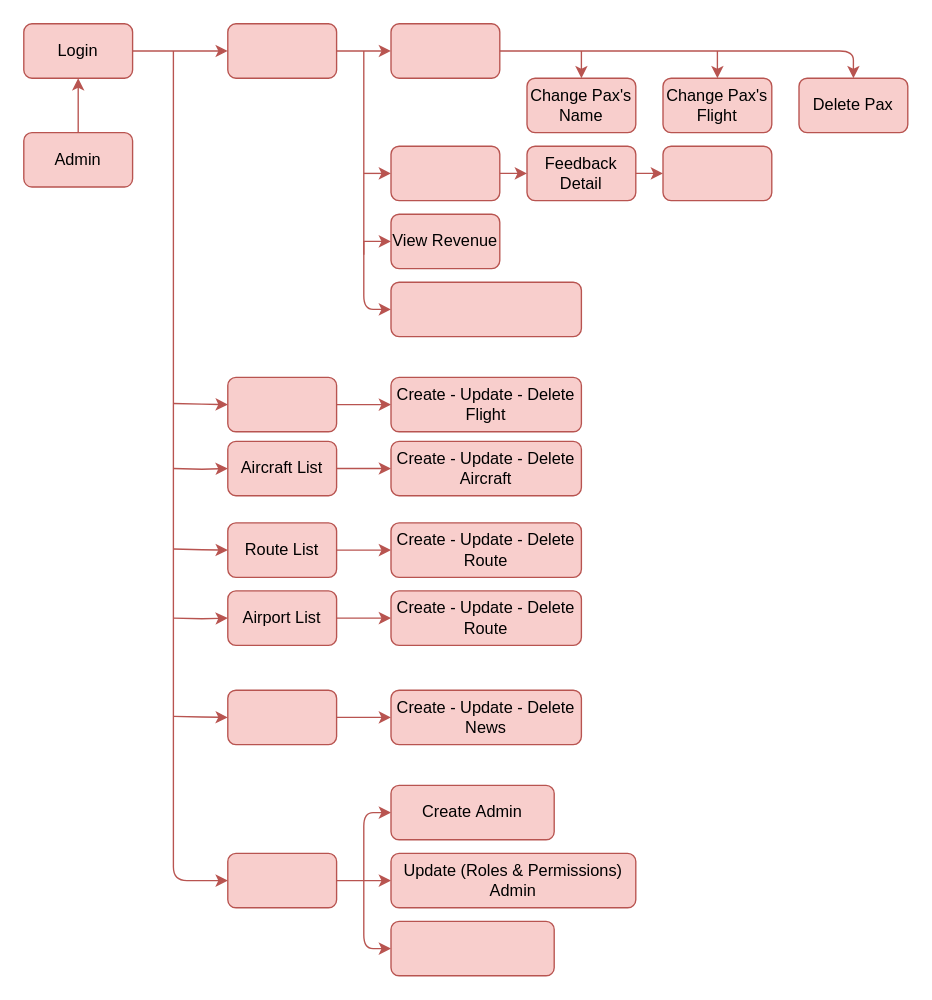
Image size: 932x1000. Some labels were removed from this diagram. The shapes that lost their labels are listed below. From the top down, each one's centre as x and y in pixels, then its label:
At point 281,50: "Passenger".
At point 445,50: "Manage Booking".
At point 445,173: "Feedback List".
At point 717,173: "Reply/Delete Feedback".
At point 485,309: "Set Discount-rate".
At point 281,404: "Flight List".
At point 281,717: "News List".
At point 281,880: "Admin List".
At point 472,948: "Delete Admin".
